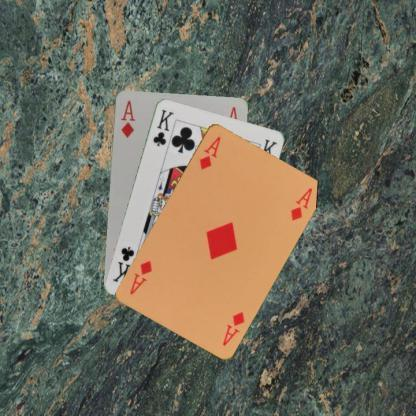Ad: (219, 309, 247, 346), (196, 134, 222, 170), (118, 97, 136, 139)
Kc: (150, 107, 176, 148)
